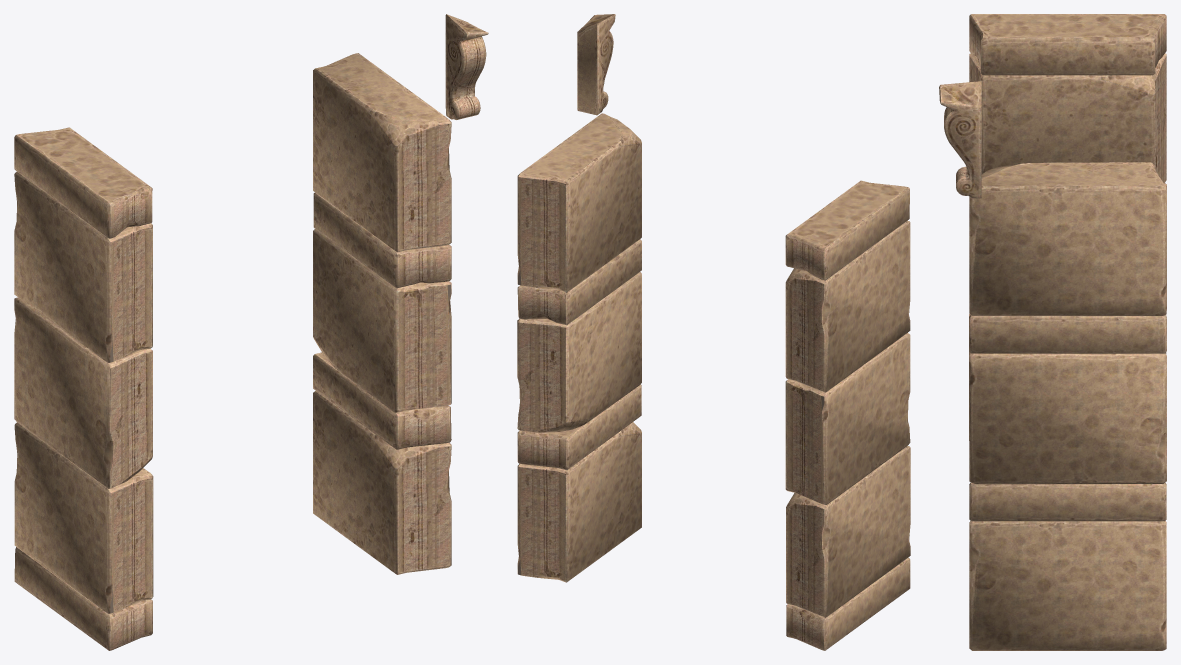
File: stone_1.obj
3 views of the same model, side by side, from view 1: azimuth 30°, elevation 25°; view 2: azimuth 150°, elevation 25°; view 3: azimuth 270°, elevation 25° (orthographic). The views are drawn at different scales.
Visible parts, largest first — view 1: door_low002_NewMat01_0; view 2: door_low002_NewMat01_0; view 3: door_low002_NewMat01_0.
Boxes of the visible parts, x1,y1,x2,y2 form: door_low002_NewMat01_0: [14, 14, 488, 650]; door_low002_NewMat01_0: [517, 14, 910, 650]; door_low002_NewMat01_0: [939, 14, 1166, 650].
Size of the model in its own units: 53.86 by 77.26 by 27.95.
